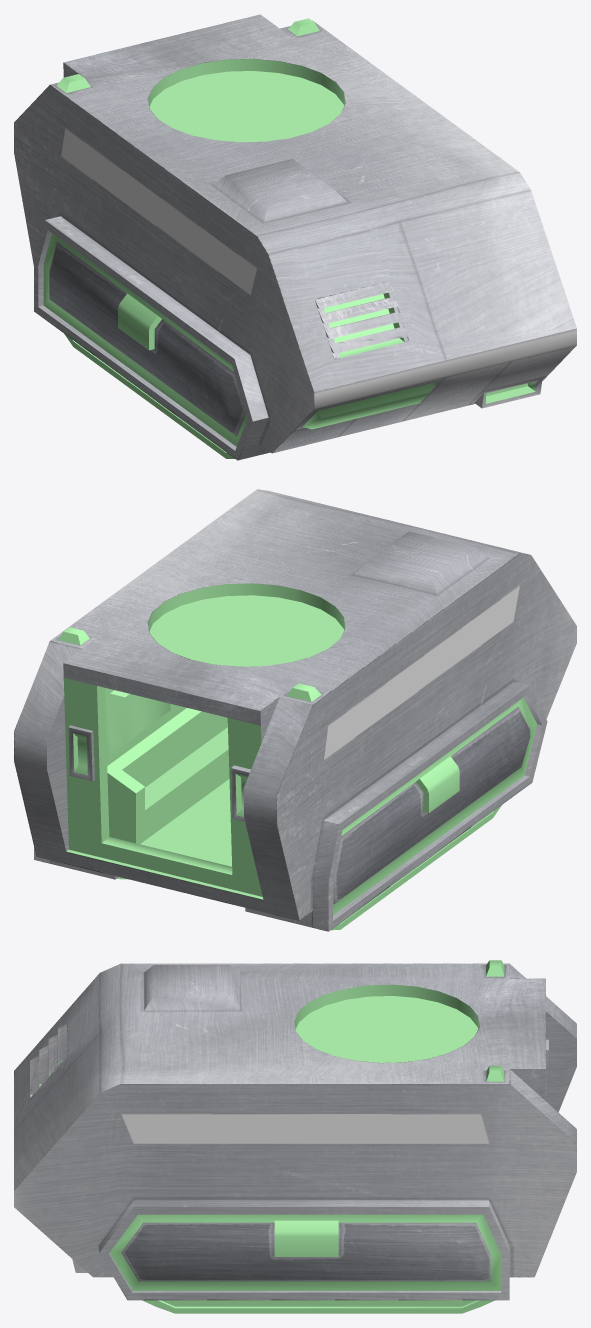
File: AAL_Alternate Hull.fbx
The picture shows the model from 3 angles, top to bottom: view 1: azimuth 30°, elevation 25°; view 2: azimuth 150°, elevation 25°; view 3: azimuth 270°, elevation 25°; orthographic projection. The views are drawn at different scales.
Parts seen in each view (by area): view 1: ASV_Hull; view 2: ASV_Hull; view 3: ASV_Hull.
Part boxes in pixels (left/top/right/bottom): ASV_Hull: left=14, top=14, right=576, bottom=460; ASV_Hull: left=14, top=489, right=576, bottom=931; ASV_Hull: left=14, top=960, right=576, bottom=1313.
Bounding box in the file's own units: 1.64 × 1.28 × 2.73.
